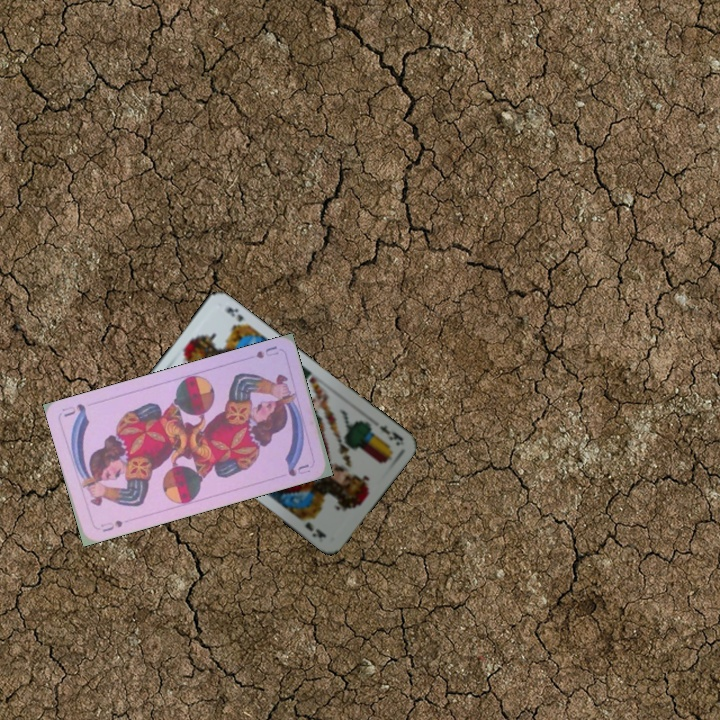EK: (375, 421, 405, 443)
SU: (252, 342, 281, 361), (96, 516, 125, 535)
